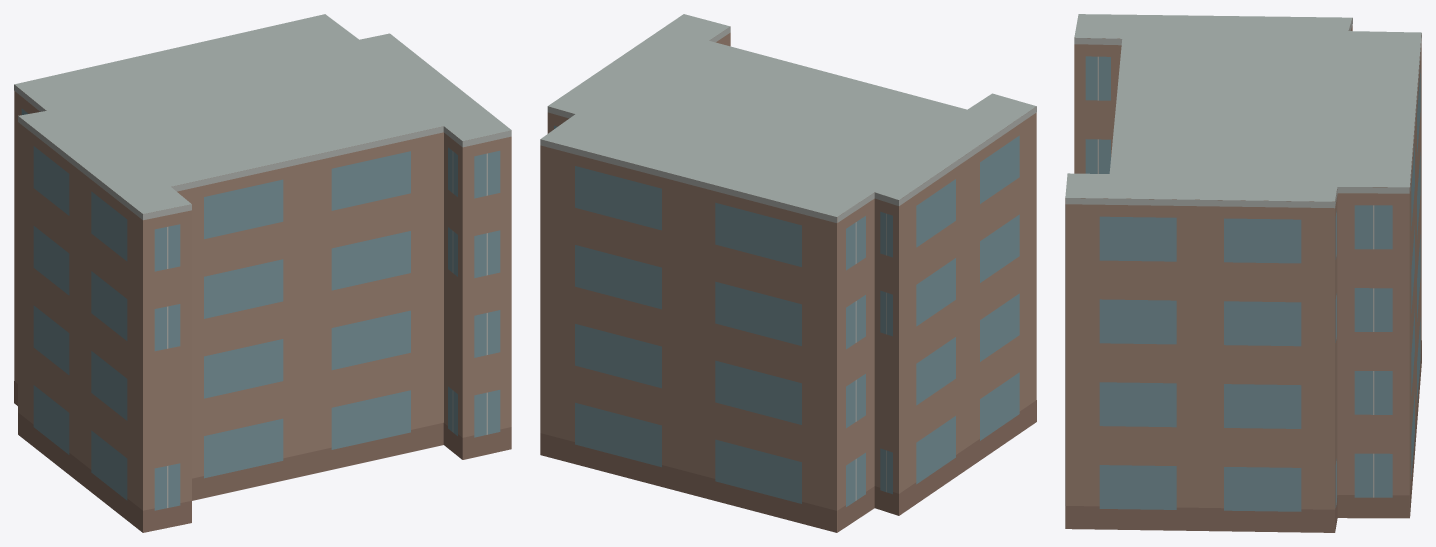
The model's file is survey-upis-32616088.glb.
3 renders of one model, left to right at view 1: azimuth 30°, elevation 25°; view 2: azimuth 150°, elevation 25°; view 3: azimuth 270°, elevation 25°, orthographic. The views are drawn at different scales.
Visible parts, largest first — view 1: survey-upis-32616088.tmp; view 2: survey-upis-32616088.tmp; view 3: survey-upis-32616088.tmp.
Part boxes in pixels (box(x1,y1,x2,y2)): survey-upis-32616088.tmp: box(14, 14, 511, 532); survey-upis-32616088.tmp: box(540, 14, 1036, 532); survey-upis-32616088.tmp: box(1065, 14, 1421, 532).
Bounding box in the file's own units: 15.33 × 12.6 × 12.3.
